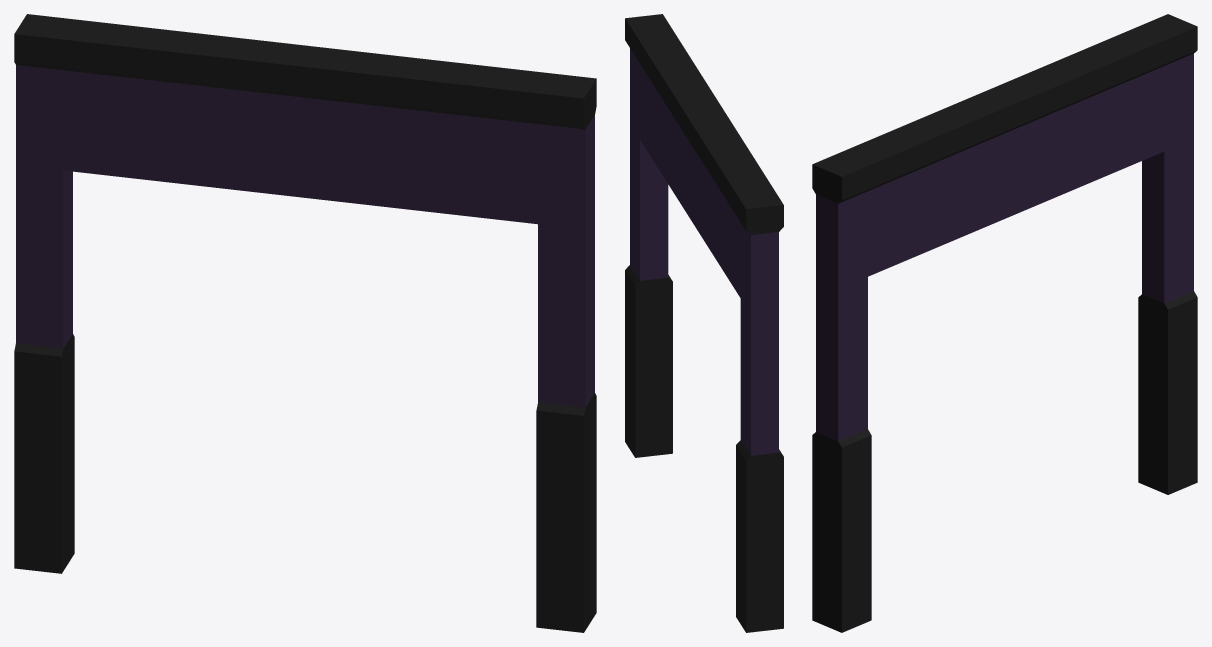
Rendered from Balcony.fbx.
3 views of the same model, side by side, from view 1: azimuth 30°, elevation 25°; view 2: azimuth 150°, elevation 25°; view 3: azimuth 270°, elevation 25° (orthographic). The views are drawn at different scales.
Visible parts, largest first — view 1: wbwve (1); view 2: wbwve (1); view 3: wbwve (1).
Boxes of the visible parts, x1,y1,x2,y2 form: wbwve (1): (14, 14, 596, 632); wbwve (1): (625, 14, 783, 632); wbwve (1): (812, 14, 1197, 632).
Bounding box in the file's own units: 2.3 × 3 × 2.3.
